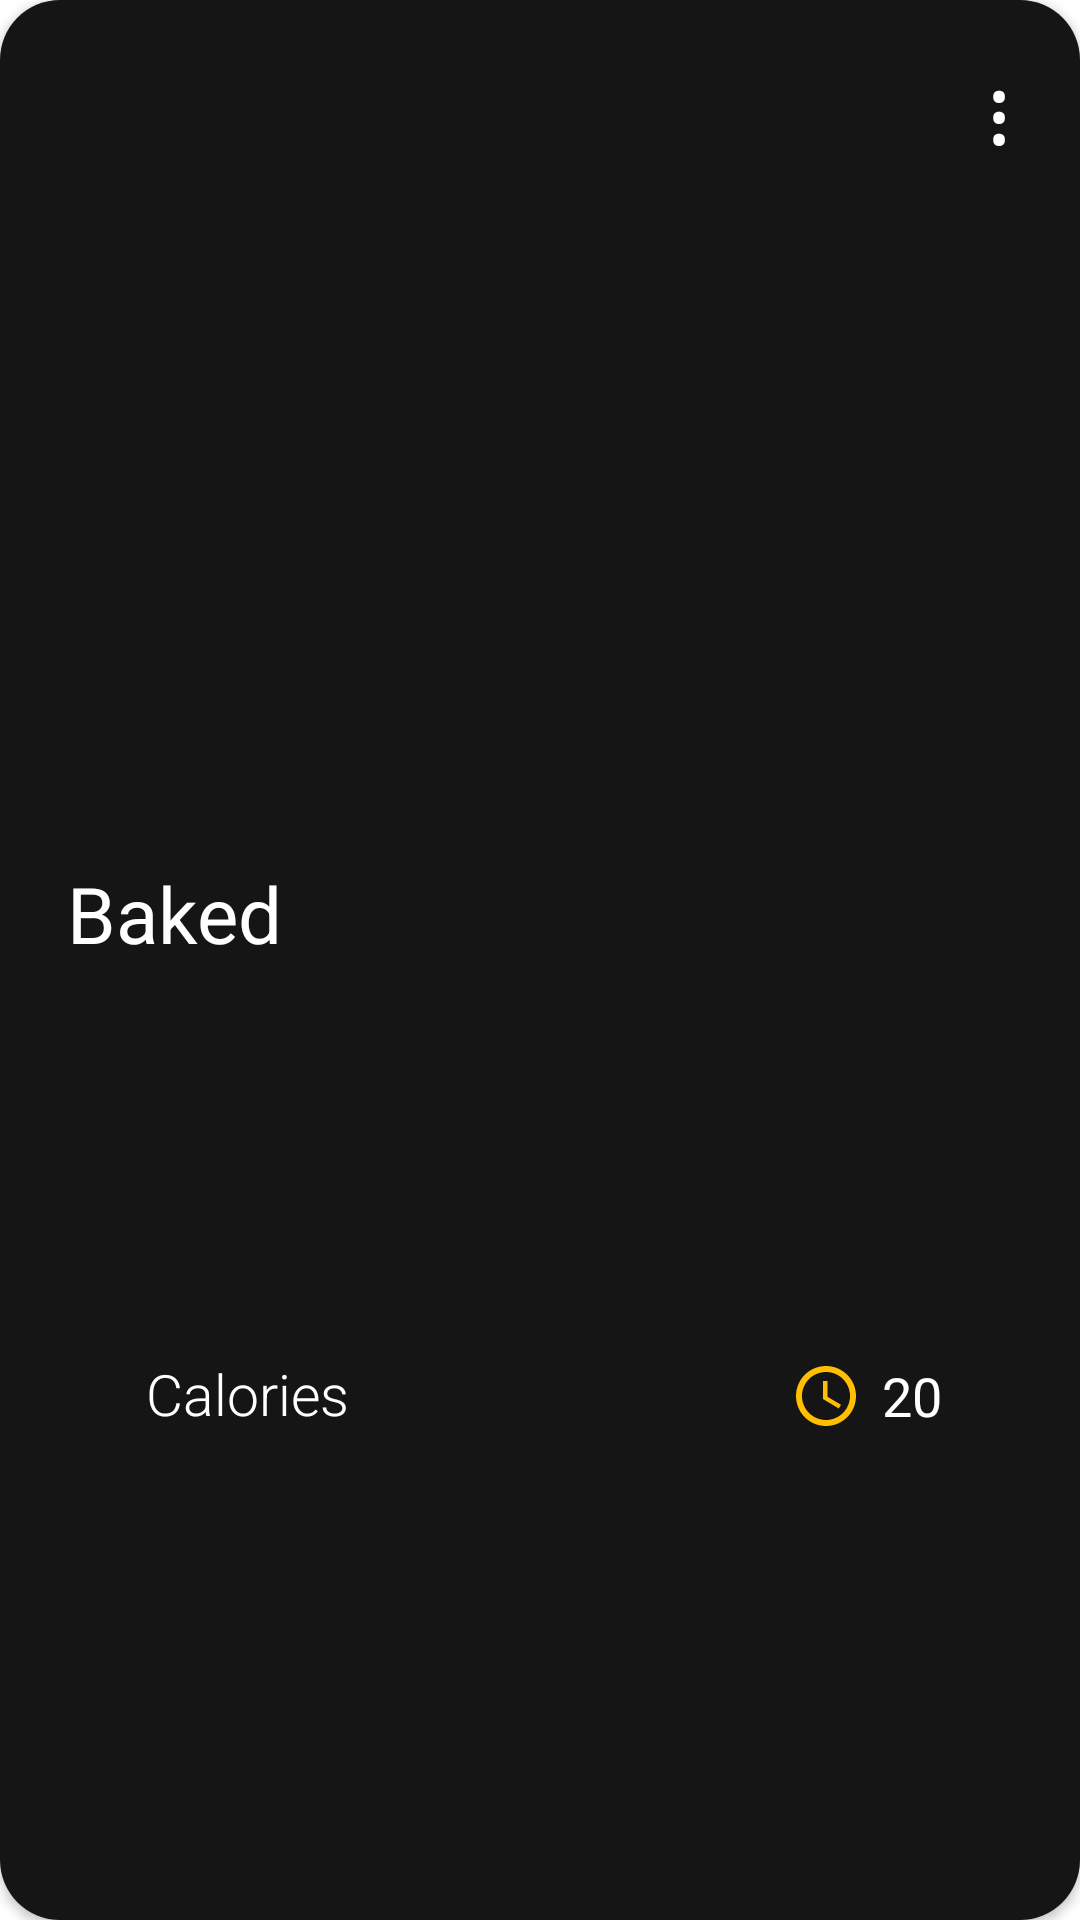

Where icons sit on this 1080*1920 app screen, as [x1,y1,x2,y2]:
time: [796,1366,856,1426]
